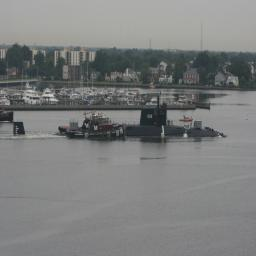submarine: (128, 106, 228, 137)
